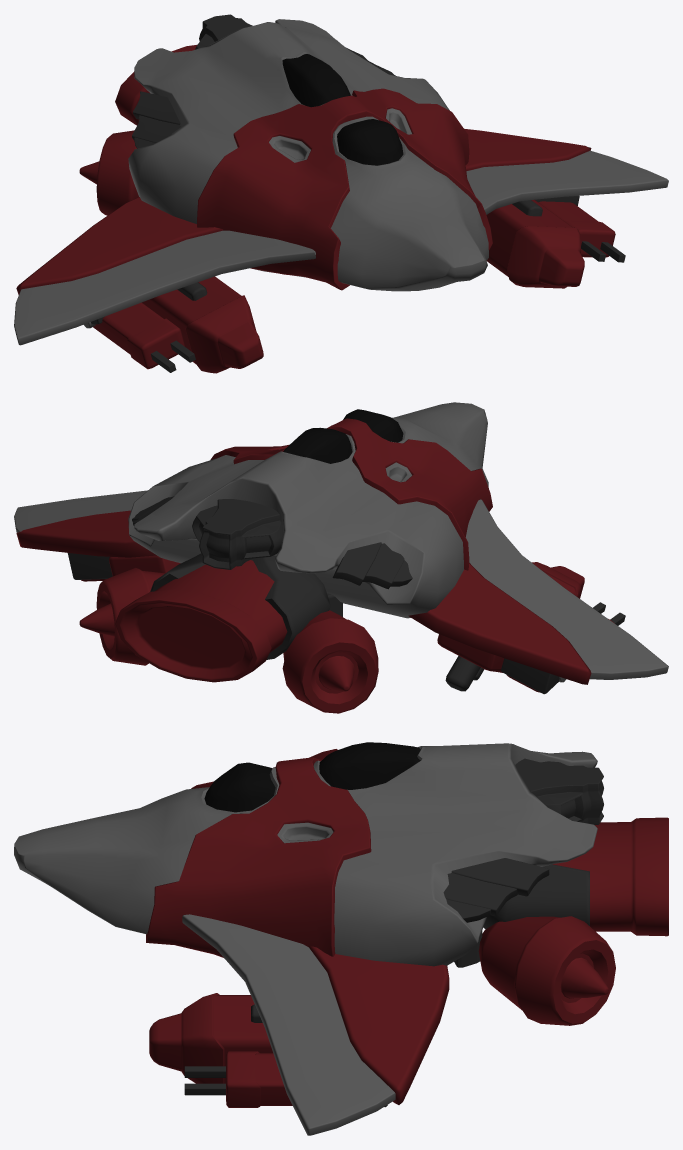
The model's file is Boss1.glb.
The picture shows the model from 3 angles, top to bottom: view 1: azimuth 30°, elevation 25°; view 2: azimuth 150°, elevation 25°; view 3: azimuth 270°, elevation 25°; orthographic projection. The views are drawn at different scales.
Parts seen in each view (by area): view 1: Ship_Boos_01_Hull, Ship_Boos_01_Wing_R, Ship_Boos_01_Wing_L, Ship_Boos_01_Weapon_R_01, Ship_Boos_01_Weapon_L_01, Ship_Boos_01_Weapon_R_02, Ship_Boos_01_Engine_03_R, Ship_Boos_01_Weapon_L_02, Ship_Boos_01_Engine_01, Ship_Boos_01_Engine_02; view 2: Ship_Boos_01_Hull, Ship_Boos_01_Wing_R, Ship_Boos_01_Engine_01, Ship_Boos_01_Engine_03_R, Ship_Boos_01_Wing_L, Ship_Boos_01_Engine_02, Ship_Boos_01_Engine_03_L, Ship_Boos_01_Weapon_R_01, Ship_Boos_01_Weapon_R_02, Ship_Boos_01_Weapon_L_02, Ship_Boos_01_Weapon_L_01; view 3: Ship_Boos_01_Hull, Ship_Boos_01_Wing_L, Ship_Boos_01_Engine_01, Ship_Boos_01_Engine_03_L, Ship_Boos_01_Weapon_L_01, Ship_Boos_01_Weapon_L_02, Ship_Boos_01_Engine_02.
Boxes of the visible parts, x1,y1,x2,y2 form: Ship_Boos_01_Hull: (128,19,492,291); Ship_Boos_01_Wing_R: (14,197,315,345); Ship_Boos_01_Wing_L: (464,128,668,214); Ship_Boos_01_Weapon_R_01: (142,276,263,373); Ship_Boos_01_Weapon_L_01: (486,199,584,288); Ship_Boos_01_Weapon_R_02: (84,302,195,372); Ship_Boos_01_Engine_03_R: (79,130,138,215); Ship_Boos_01_Weapon_L_02: (535,196,625,262); Ship_Boos_01_Engine_01: (115,45,196,125); Ship_Boos_01_Engine_02: (195,14,252,49); Ship_Boos_01_Hull: (128,402,492,618); Ship_Boos_01_Wing_R: (408,499,668,684); Ship_Boos_01_Engine_01: (115,553,342,682); Ship_Boos_01_Engine_03_R: (282,610,378,713); Ship_Boos_01_Wing_L: (14,490,156,557); Ship_Boos_01_Engine_02: (192,499,283,569); Ship_Boos_01_Engine_03_L: (79,568,164,665); Ship_Boos_01_Weapon_R_01: (437,562,584,691); Ship_Boos_01_Weapon_R_02: (501,602,625,694); Ship_Boos_01_Weapon_L_02: (67,553,112,581); Ship_Boos_01_Weapon_L_01: (109,555,180,576); Ship_Boos_01_Hull: (14,742,597,966); Ship_Boos_01_Wing_L: (182,914,449,1135); Ship_Boos_01_Engine_01: (454,817,668,967); Ship_Boos_01_Engine_03_L: (478,916,615,1025); Ship_Boos_01_Weapon_L_01: (149,993,272,1083); Ship_Boos_01_Weapon_L_02: (184,1051,387,1107); Ship_Boos_01_Engine_02: (515,758,603,824).
Size of the model in its own units: 18.95 by 5.93 by 14.39.
Materials: 1 (1 with a texture image).
